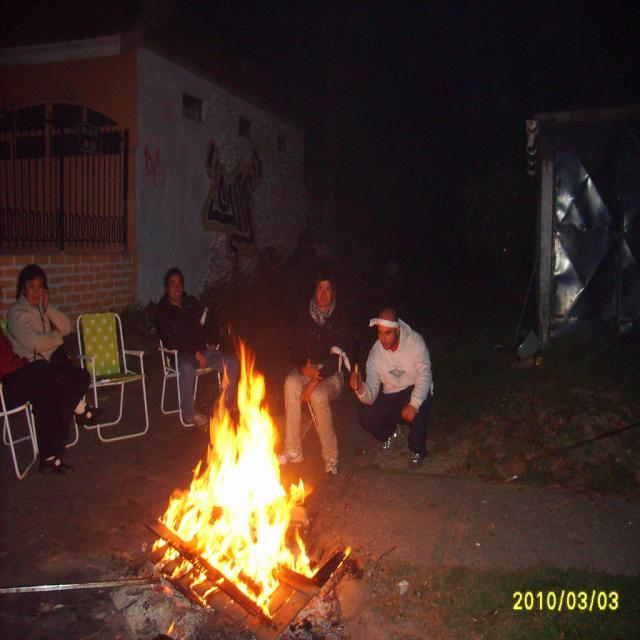Fire: (152, 332, 324, 603)
